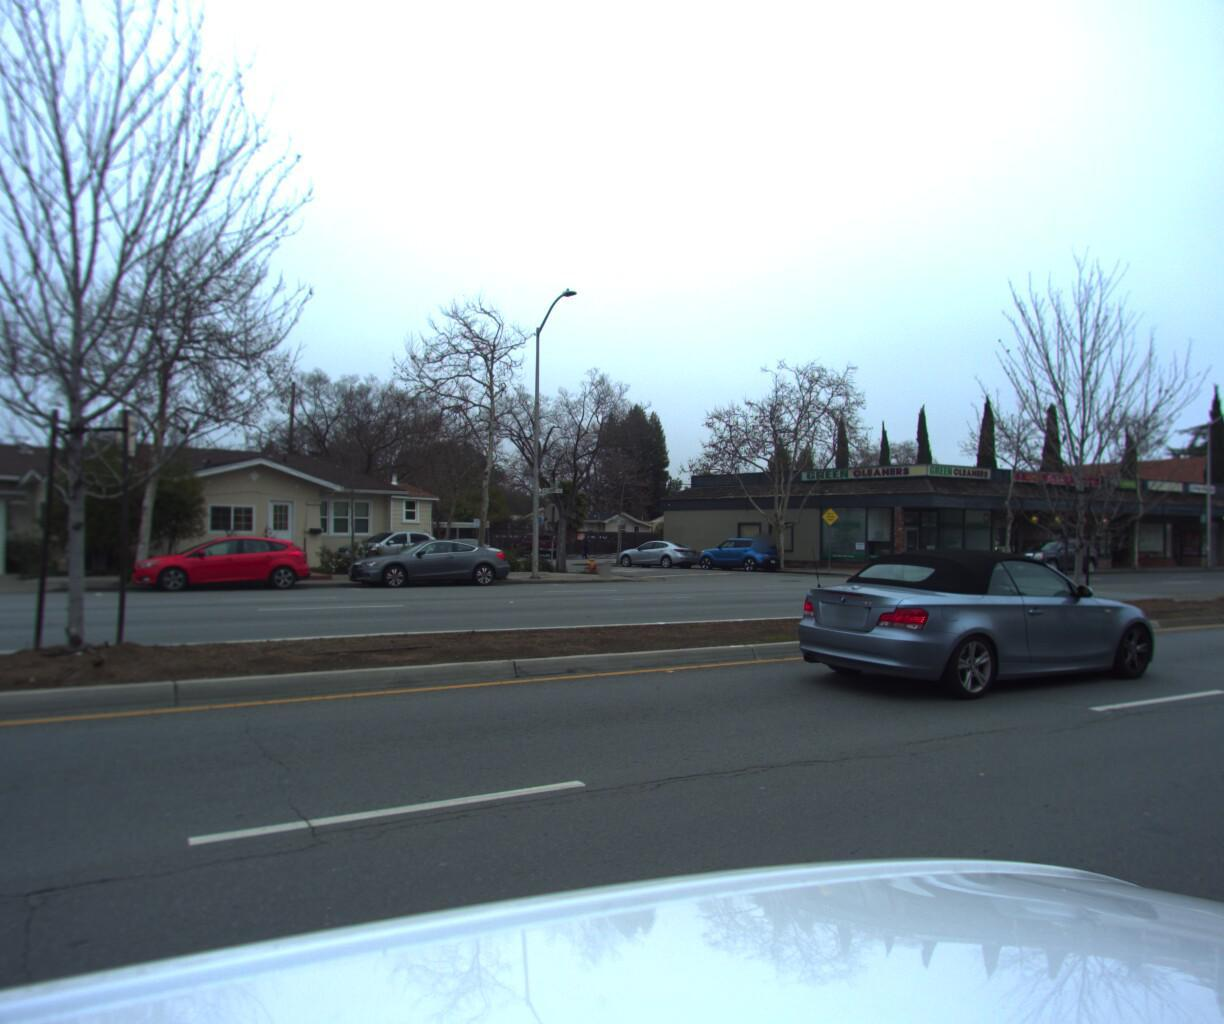car: (774, 544, 1171, 719), (132, 534, 316, 596), (338, 535, 518, 593), (325, 527, 457, 571), (998, 532, 1100, 575), (692, 534, 785, 573), (614, 536, 702, 571), (431, 535, 513, 567), (510, 530, 565, 557), (555, 529, 610, 556)
